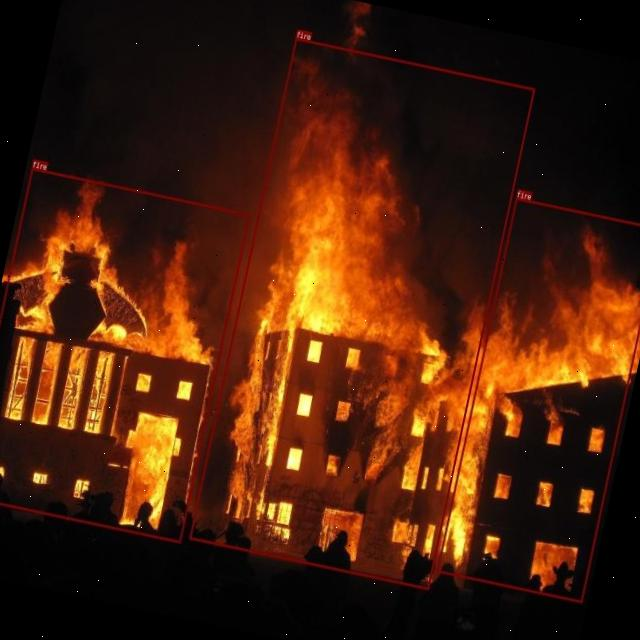fire: (189, 37, 535, 590), (0, 166, 249, 542), (436, 196, 640, 603)
